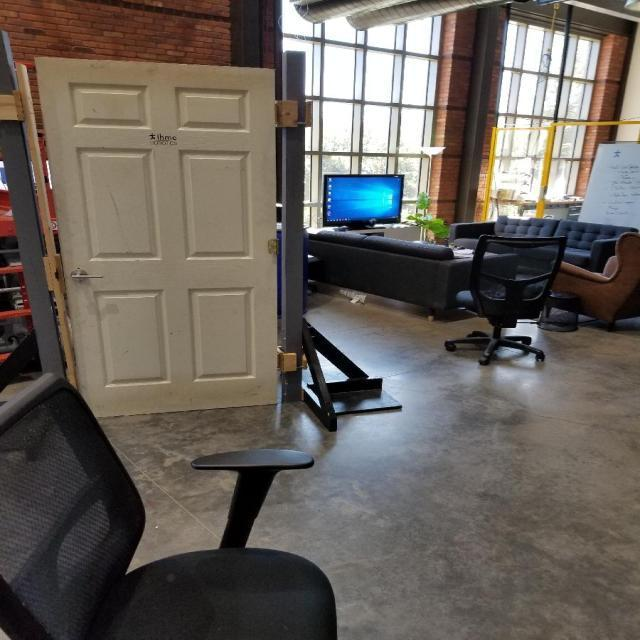door: (30, 53, 279, 424), (68, 266, 110, 284)
